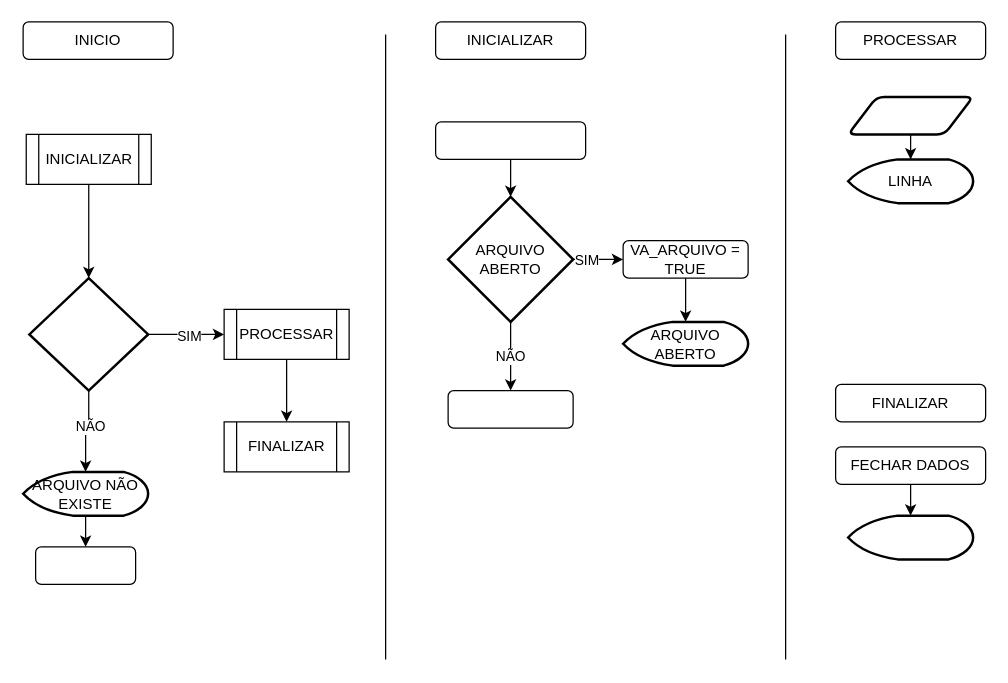
Image size: 1008x683. Some labels were removed from this diagram. The centre of each missing label's shape, as x and y in pixels:
"ABRIR DADOS" goes at pixel 510 140.
"DADOS" goes at pixel 910 115.
"DADOS FECHADOS" goes at pixel 910 537.
"FIM" goes at pixel 85 565.
"VA_ARQUIVO = FALSE" goes at pixel 510 408.
"VAR_ARQUIVO_EXISTE" goes at pixel 88 333.
